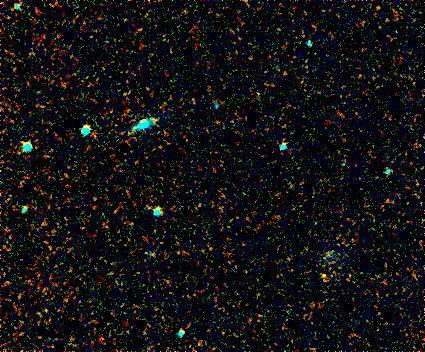star: (306, 265, 336, 295)
